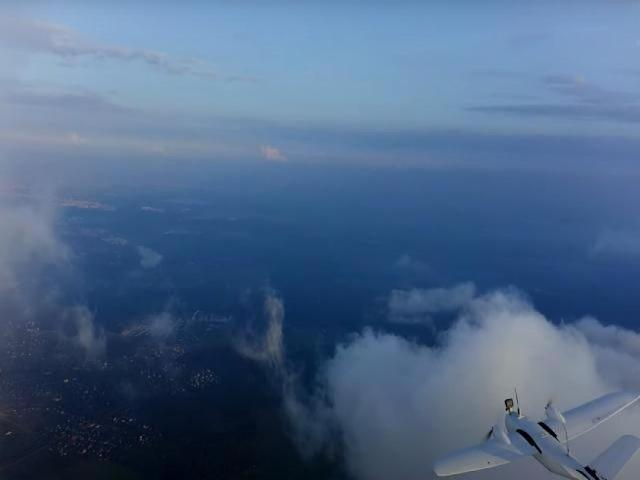iha: (425, 373, 640, 480)
